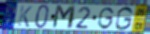0: (34, 4, 51, 30)
2: (74, 6, 91, 30)
G: (114, 6, 134, 32), (97, 6, 116, 30)
K: (17, 4, 34, 28)
M: (51, 4, 77, 31)
